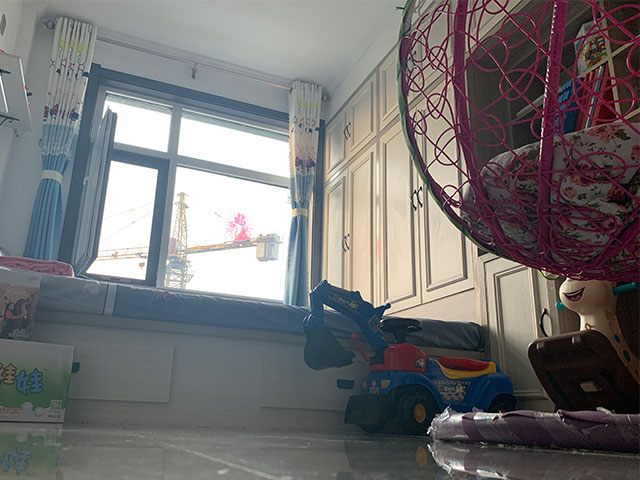bed: (1, 256, 483, 436)
curtain: (25, 14, 100, 259), (284, 76, 325, 307)
